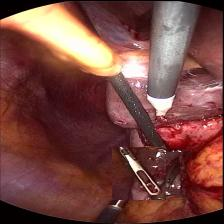Grasper: (112, 146, 166, 198), (155, 151, 192, 188)
Hook: (145, 92, 179, 123)
